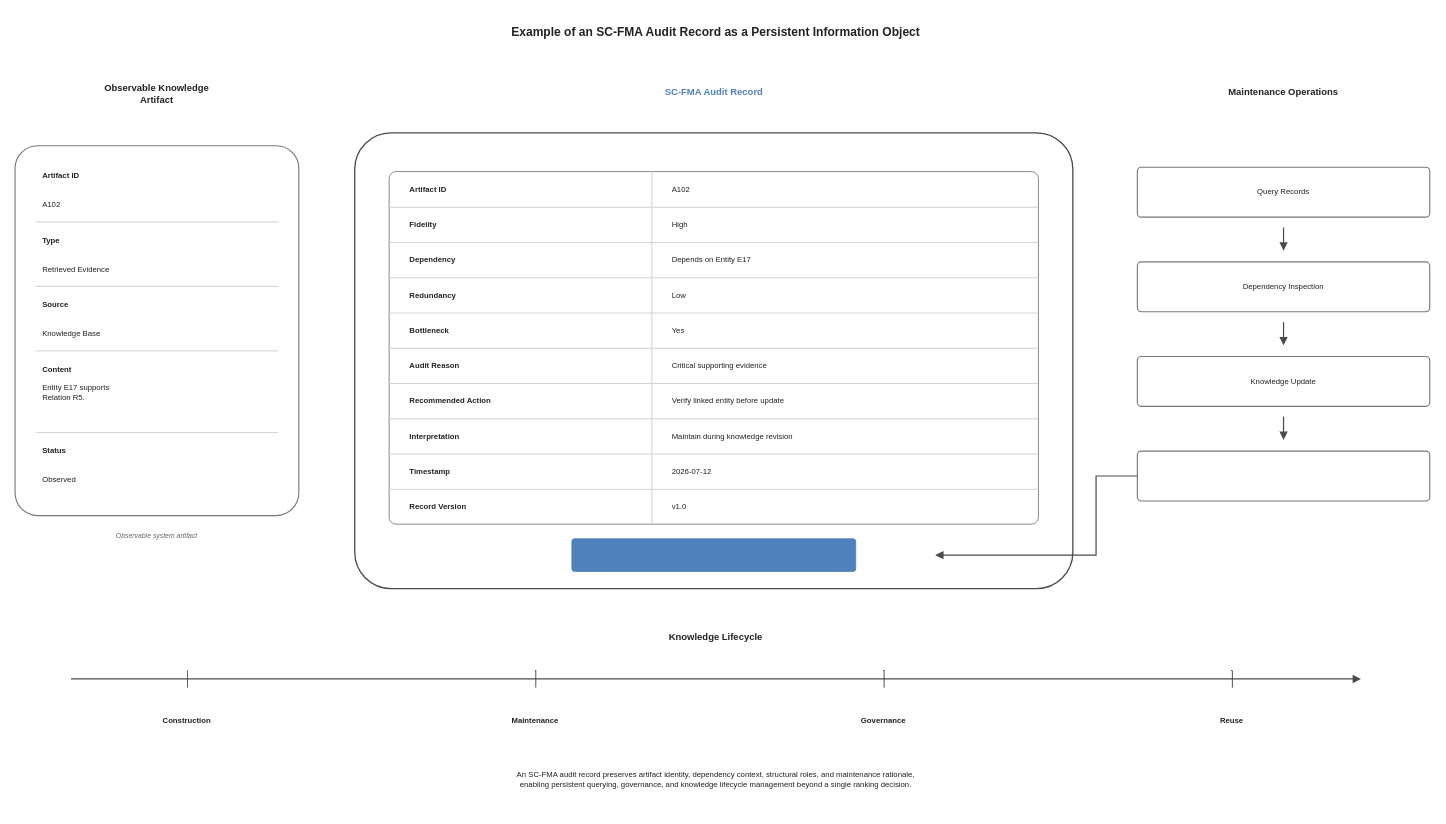
Image size: 1446x824. Some labels were removed from this diagram. The box of each missing label's shape, as (x1, y1, x2, y2) in pixels:
Governance Log: (1136, 450, 1430, 501)
Persistent Audit Record: (571, 538, 856, 571)
